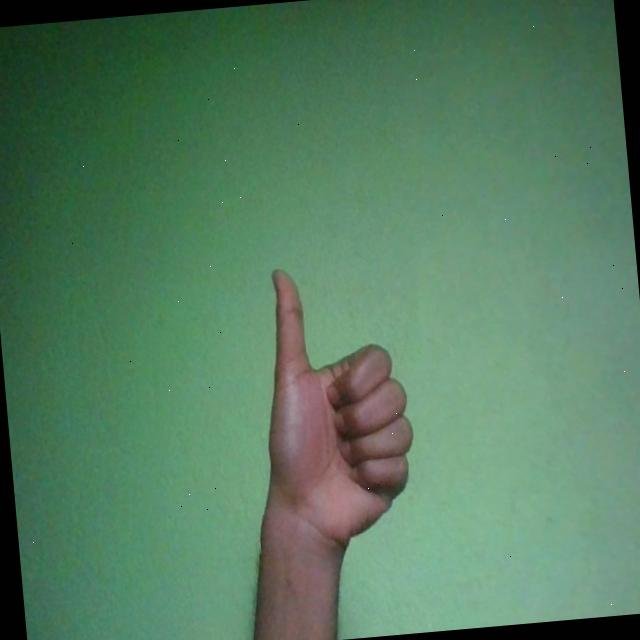Good Job: (251, 257, 423, 558)
